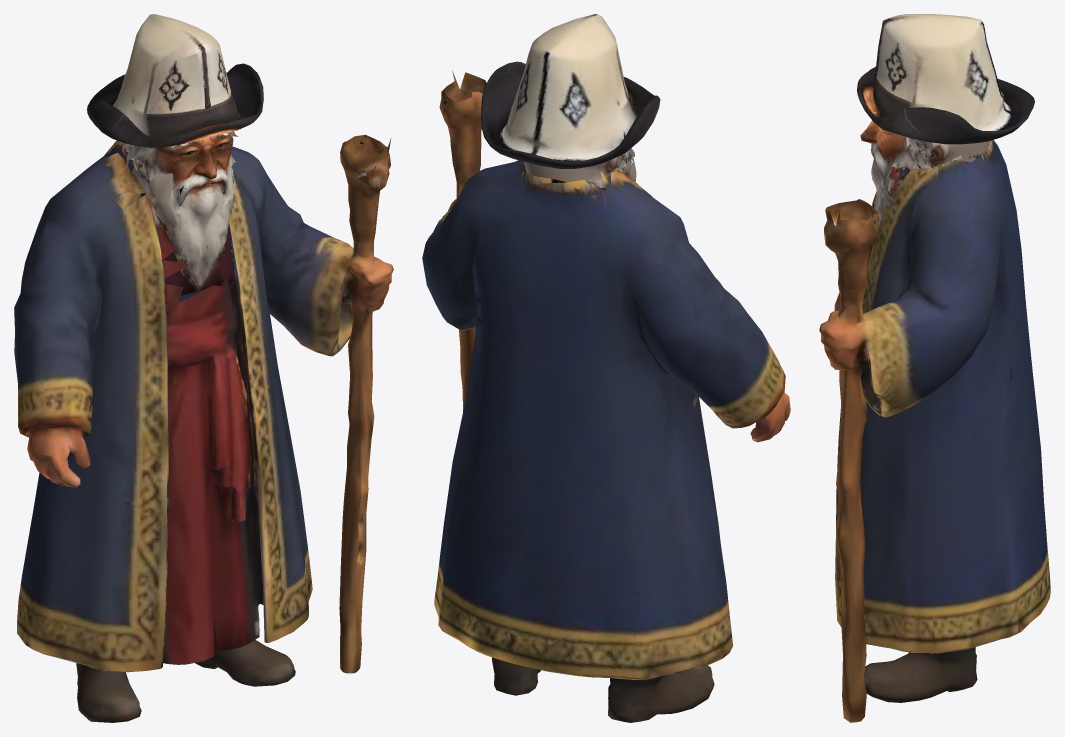
File: elder.gen.glb
3 views of the same model, side by side, from view 1: azimuth 30°, elevation 25°; view 2: azimuth 150°, elevation 25°; view 3: azimuth 270°, elevation 25° (orthographic). The views are drawn at different scales.
Visible parts, largest first — view 1: elder.raw; view 2: elder.raw; view 3: elder.raw.
Boxes of the visible parts, x1,y1,x2,y2 form: elder.raw: (14, 14, 393, 722); elder.raw: (422, 14, 790, 722); elder.raw: (819, 14, 1050, 722).
Bounding box in the file's own units: 1.1 × 1.95 × 0.6359.
1 material, 1 textured.
